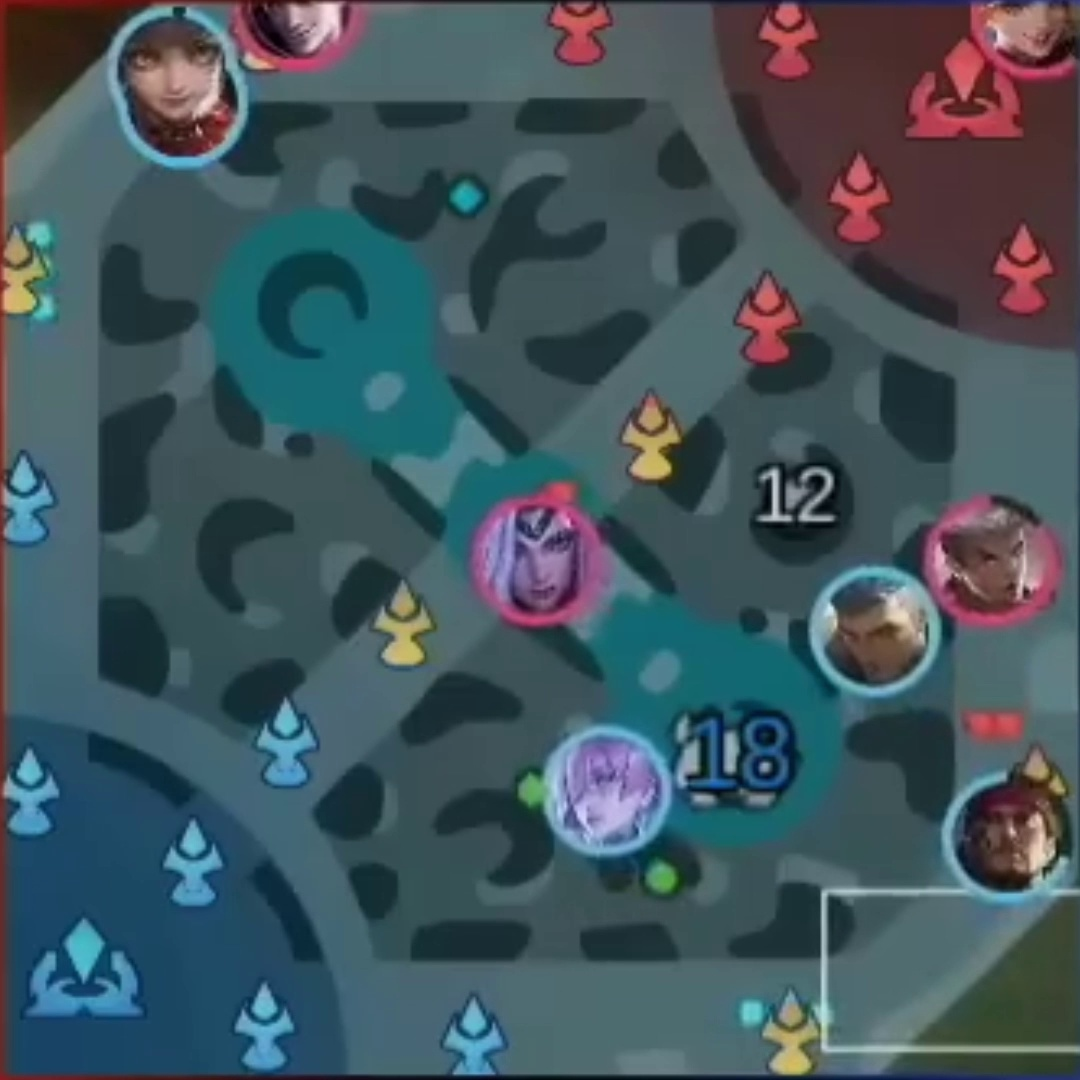Chou: (946, 513, 1035, 610)
Claude: (256, 1, 343, 54)
Fanny: (985, 1, 1068, 63)
Fredrinn: (826, 588, 923, 675)
Lapu-Lapu: (968, 792, 1051, 880)
Novaria: (561, 744, 652, 838)
Valentina: (489, 509, 589, 613)
Wanwan: (128, 25, 218, 114)
